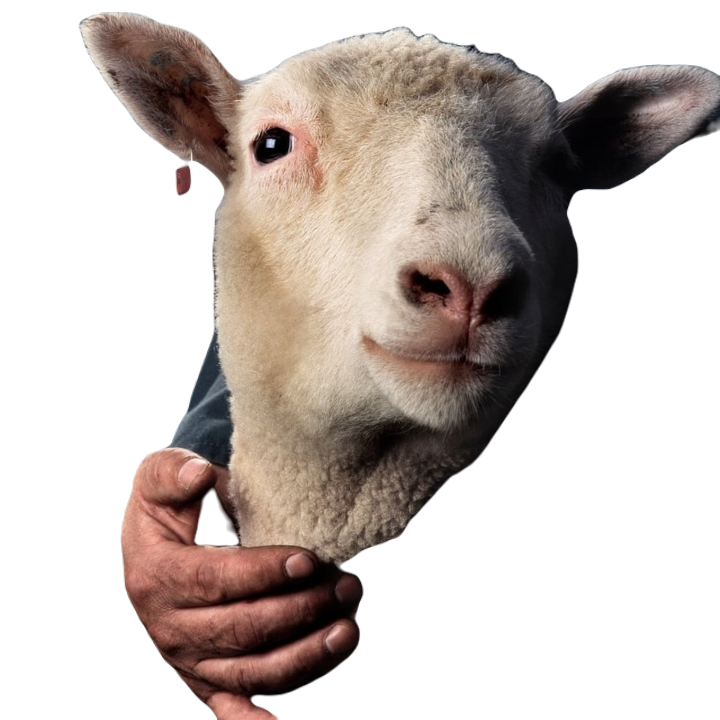Sheep: (77, 8, 719, 563)
